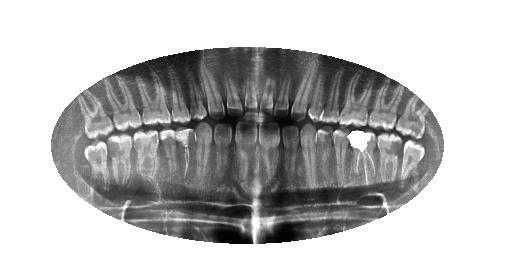i10healthy: (209, 115, 234, 204)
i11healthy: (190, 117, 214, 194)
i12healthy: (172, 121, 198, 196)
i13healthy: (154, 123, 183, 202)
i14decay: (131, 121, 162, 203)
i15decay: (104, 127, 135, 199)
i16healthy: (81, 133, 112, 202)
i1healthy: (400, 135, 429, 199)
i2healthy: (373, 124, 405, 199)
i3healthy: (345, 124, 381, 203)
i4healthy: (327, 120, 354, 199)
i5healthy: (312, 119, 335, 202)
i6healthy: (296, 119, 320, 200)
i7healthy: (281, 119, 301, 203)
i8healthy: (256, 118, 282, 207)
i9decay: (230, 116, 262, 203)
u10decay: (218, 58, 249, 126)
u11decay: (197, 58, 227, 125)
u12healthy: (180, 61, 210, 126)
u13healthy: (162, 60, 196, 129)
u14healthy: (131, 66, 174, 134)
u15healthy: (102, 74, 143, 134)
u16healthy: (74, 88, 115, 140)
u1healthy: (393, 87, 432, 143)
u2healthy: (367, 70, 405, 138)
u3healthy: (338, 67, 381, 136)
u4healthy: (316, 64, 345, 127)
u5healthy: (303, 66, 329, 126)
u6decay: (287, 57, 317, 129)
u7healthy: (271, 63, 294, 126)
u8decay: (257, 69, 276, 129)
u9decay: (242, 69, 259, 121)
